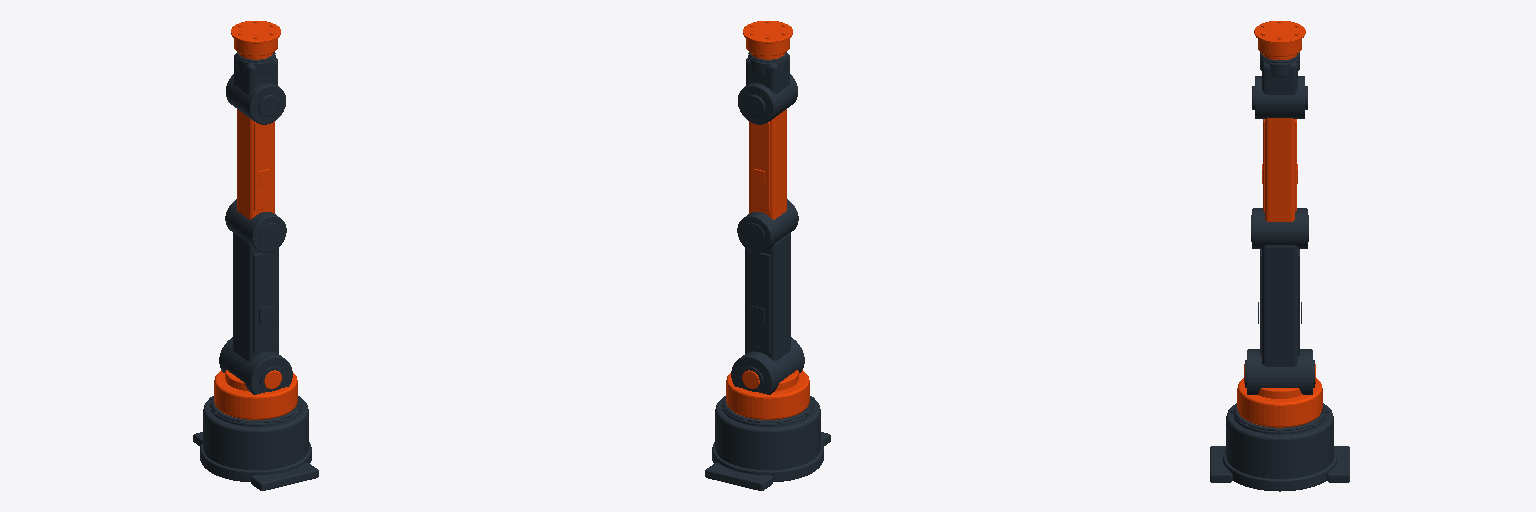
The robot description file, URDF, robot "printed_arm_concept":
<?xml version="1.0" ?>
<!-- =================================================================================== -->
<!-- |    This document was autogenerated by xacro from src/arm_description/urdf/arm_concept.urdf.xacro | -->
<!-- |    EDITING THIS FILE BY HAND IS NOT RECOMMENDED                                 | -->
<!-- =================================================================================== -->
<!--
  Concept arm built from hardware/cad/arm_concept_parts.blend.
  The STL coordinates are in metres and local to each link's proximal joint.
  Visuals use those meshes; collision and inertia remain simple approximations.
  Joint names, axes, origins and limits match arm.urdf.xacro and FluidNC mapping.
-->
<robot name="printed_arm_concept">
  <!-- STL has no colour information, so each link gets one display material. -->
  <material name="graphite">
    <color rgba="0.20 0.24 0.28 1"/>
  </material>
  <material name="orange">
    <color rgba="0.95 0.32 0.07 1"/>
  </material>
  <link name="world"/>
  <link name="base_link">
    <visual>
      <origin rpy="0 0 0" xyz="0 0 0"/>
      <geometry>
        <mesh filename="package://arm_description/meshes/base_link.stl" scale="1 1 1"/>
      </geometry>
      <material name="graphite"/>
    </visual>
    <collision>
      <origin xyz="0 0 0.04"/>
      <geometry>
        <cylinder length="0.08" radius="0.071"/>
      </geometry>
    </collision>
    <inertial>
      <origin xyz="0 0 0.04"/>
      <mass value="1.0"/>
      <inertia ixx="0.003056333333333333" ixy="0" ixz="0" iyy="0.0022136666666666663" iyz="0" izz="0.004203333333333333"/>
    </inertial>
  </link>
  <joint name="world_to_base" type="fixed">
    <parent link="world"/>
    <child link="base_link"/>
  </joint>
  <link name="link1">
    <visual>
      <origin rpy="0 0 0" xyz="0 0 0"/>
      <geometry>
        <mesh filename="package://arm_description/meshes/link1.stl" scale="1 1 1"/>
      </geometry>
      <material name="orange"/>
    </visual>
    <collision>
      <origin xyz="0 0 0.025"/>
      <geometry>
        <box size="0.106 0.106 0.05"/>
      </geometry>
    </collision>
    <inertial>
      <origin xyz="0 0 0.025"/>
      <mass value="0.3"/>
      <inertia ixx="0.0003434" ixy="0" ixz="0" iyy="0.0003434" iyz="0" izz="0.0005618"/>
    </inertial>
  </link>
  <link name="link2">
    <visual>
      <origin rpy="0 0 0" xyz="0 0 0"/>
      <geometry>
        <mesh filename="package://arm_description/meshes/link2.stl" scale="1 1 1"/>
      </geometry>
      <material name="graphite"/>
    </visual>
    <collision>
      <origin xyz="0 0 0.1"/>
      <geometry>
        <box size="0.062 0.086 0.2"/>
      </geometry>
    </collision>
    <inertial>
      <origin xyz="0 0 0.1"/>
      <mass value="0.25"/>
      <inertia ixx="0.0009874166666666668" ixy="0" ixz="0" iyy="0.0009134166666666669" iyz="0" izz="0.00023416666666666662"/>
    </inertial>
  </link>
  <link name="link3">
    <visual>
      <origin rpy="0 0 0" xyz="0 0 0"/>
      <geometry>
        <mesh filename="package://arm_description/meshes/link3.stl" scale="1 1 1"/>
      </geometry>
      <material name="orange"/>
    </visual>
    <collision>
      <origin xyz="0 0 0.09"/>
      <geometry>
        <box size="0.051 0.071 0.18"/>
      </geometry>
    </collision>
    <inertial>
      <origin xyz="0 0 0.09"/>
      <mass value="0.2"/>
      <inertia ixx="0.0006240166666666667" ixy="0" ixz="0" iyy="0.00058335" iyz="0" izz="0.00012736666666666668"/>
    </inertial>
  </link>
  <link name="link4">
    <visual>
      <origin rpy="0 0 0" xyz="0 0 0"/>
      <geometry>
        <mesh filename="package://arm_description/meshes/link4.stl" scale="1 1 1"/>
      </geometry>
      <material name="graphite"/>
    </visual>
    <collision>
      <origin xyz="0 0 0.03"/>
      <geometry>
        <box size="0.054 0.07 0.06"/>
      </geometry>
    </collision>
    <inertial>
      <origin xyz="0 0 0.03"/>
      <mass value="0.1"/>
      <inertia ixx="7.083333333333334e-05" ixy="0" ixz="0" iyy="5.43e-05" iyz="0" izz="6.513333333333334e-05"/>
    </inertial>
  </link>
  <link name="link5">
    <visual>
      <origin rpy="0 0 0" xyz="0 0 0"/>
      <geometry>
        <mesh filename="package://arm_description/meshes/link5.stl" scale="1 1 1"/>
      </geometry>
      <material name="orange"/>
    </visual>
    <collision>
      <origin xyz="0 0 0.015"/>
      <geometry>
        <box size="0.064 0.064 0.03"/>
      </geometry>
    </collision>
    <inertial>
      <origin xyz="0 0 0.015"/>
      <mass value="0.05"/>
      <inertia ixx="2.0816666666666667e-05" ixy="0" ixz="0" iyy="2.0816666666666667e-05" iyz="0" izz="3.4133333333333334e-05"/>
    </inertial>
  </link>
  <joint name="joint1" type="revolute">
    <parent link="base_link"/>
    <child link="link1"/>
    <origin rpy="0 0 0" xyz="0 0 0.08"/>
    <axis xyz="0 0 1"/>
    <limit effort="5.0" lower="-2.9670597283903604" upper="2.9670597283903604" velocity="1.0"/>
  </joint>
  <joint name="joint2" type="revolute">
    <parent link="link1"/>
    <child link="link2"/>
    <origin rpy="0 0 0" xyz="0 0 0.05"/>
    <axis xyz="0 1 0"/>
    <limit effort="5.0" lower="-1.5707963267948966" upper="1.5707963267948966" velocity="0.5"/>
  </joint>
  <joint name="joint3" type="revolute">
    <parent link="link2"/>
    <child link="link3"/>
    <origin rpy="0 0 0" xyz="0 0 0.2"/>
    <axis xyz="0 1 0"/>
    <limit effort="5.0" lower="-2.356194490192345" upper="2.356194490192345" velocity="0.7"/>
  </joint>
  <joint name="joint4" type="revolute">
    <parent link="link3"/>
    <child link="link4"/>
    <origin rpy="0 0 0" xyz="0 0 0.18"/>
    <axis xyz="0 1 0"/>
    <limit effort="5.0" lower="-1.7453292519943295" upper="1.7453292519943295" velocity="1.0"/>
  </joint>
  <joint name="joint5" type="revolute">
    <parent link="link4"/>
    <child link="link5"/>
    <origin rpy="0 0 0" xyz="0 0 0.06"/>
    <axis xyz="0 0 1"/>
    <limit effort="5.0" lower="-3.141592653589793" upper="3.141592653589793" velocity="1.0"/>
  </joint>
  <link name="tool0"/>
  <joint name="link5_to_tool0" type="fixed">
    <parent link="link5"/>
    <child link="tool0"/>
    <origin xyz="0 0 0.03"/>
  </joint>
</robot>

--- What the picture shows (computed from the rendered views, not written in the file) ---
The picture shows the robot from 3 angles, left to right: view 1: azimuth 30°, elevation 25°; view 2: azimuth 150°, elevation 25°; view 3: azimuth 270°, elevation 25°; orthographic projection.
Model printed_arm_concept with 8 links and 7 joints (5 revolute, 2 fixed), rooted at world, posed all joints at 0.
Links seen in each view (by area): view 1: link2, base_link, link3, link4, link1, link5; view 2: link2, base_link, link3, link4, link1, link5; view 3: link2, base_link, link3, link1, link4, link5.
Boxes of the visible links, <box> form: link2: <box>219,199,292,394</box>; base_link: <box>193,396,318,490</box>; link3: <box>237,109,274,219</box>; link4: <box>226,52,285,124</box>; link1: <box>214,370,297,419</box>; link5: <box>231,21,280,59</box>; link2: <box>731,199,804,394</box>; base_link: <box>705,396,830,490</box>; link3: <box>749,109,786,219</box>; link4: <box>738,52,797,124</box>; link1: <box>726,370,809,419</box>; link5: <box>743,21,792,59</box>; link2: <box>1245,208,1314,394</box>; base_link: <box>1210,403,1349,491</box>; link3: <box>1262,118,1297,221</box>; link1: <box>1237,364,1322,427</box>; link4: <box>1252,52,1307,118</box>; link5: <box>1254,21,1305,59</box>.
Size in the robot's own frame: 0.142 by 0.174 by 0.604 metres.
6 mesh visuals loaded from 6 distinct referenced files (6 binary STL).
